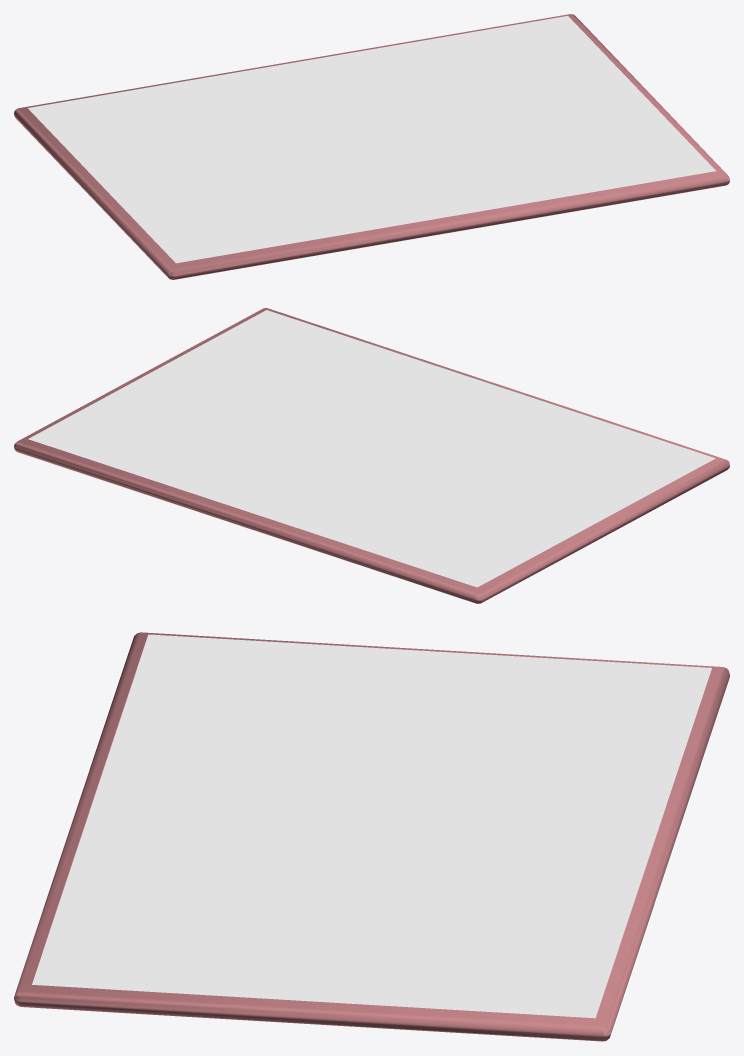
Rendered from MizunoApart_Diary.fbx.
3 views of the same model, one above another, from view 1: azimuth 30°, elevation 25°; view 2: azimuth 150°, elevation 25°; view 3: azimuth 270°, elevation 25° (orthographic). The views are drawn at different scales.
Visible parts, largest first — view 1: MizunoApart_Diary; view 2: MizunoApart_Diary; view 3: MizunoApart_Diary.
Boxes of the visible parts, x1,y1,x2,y2 form: MizunoApart_Diary: (14,14,729,279); MizunoApart_Diary: (14,308,729,603); MizunoApart_Diary: (14,632,729,1041).
Size of the model in its own units: 0.2819 by 0.006 by 0.2138.
